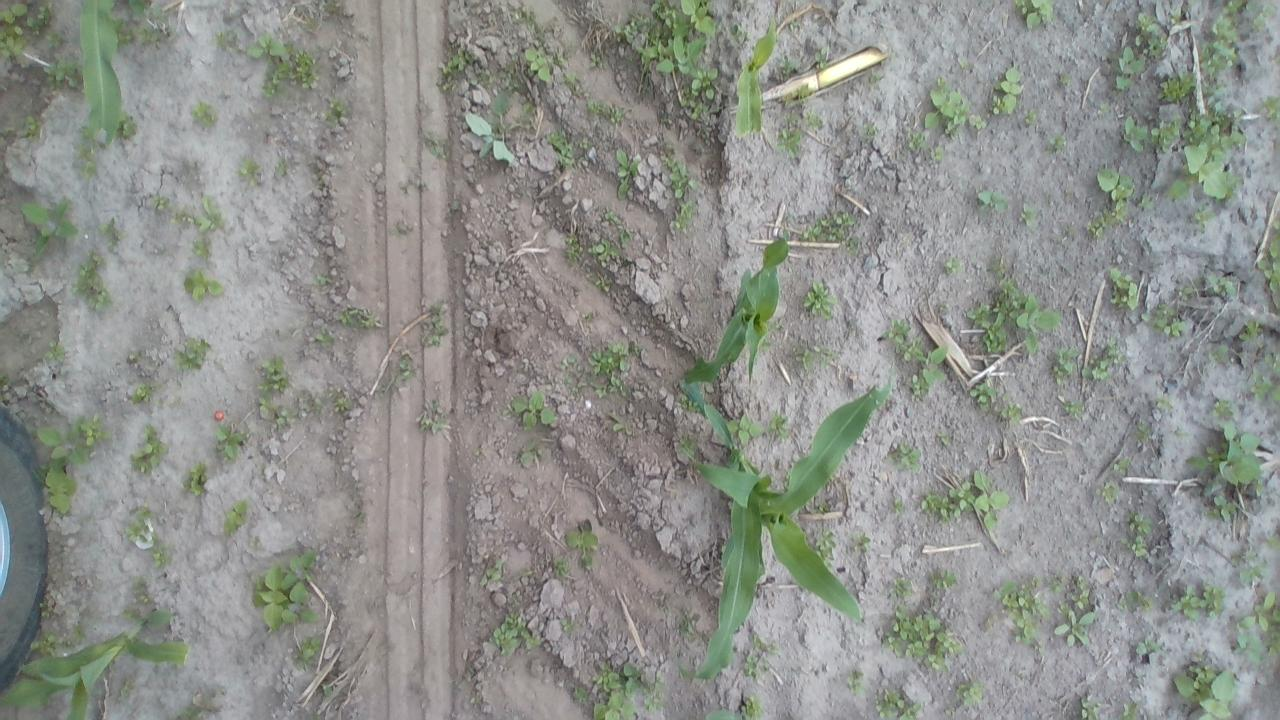Maize: (686, 379, 891, 674), (3, 606, 191, 720), (682, 234, 791, 386), (78, 0, 122, 147), (734, 16, 778, 132), (707, 705, 739, 720)
Weeds: (996, 574, 1096, 648), (621, 0, 716, 73), (249, 552, 319, 630), (466, 82, 526, 166), (39, 414, 90, 512), (876, 610, 961, 668), (570, 654, 642, 720), (1190, 424, 1264, 486), (966, 275, 1016, 356), (1169, 144, 1237, 202), (0, 0, 57, 68), (1170, 663, 1236, 719), (1234, 591, 1280, 658), (1187, 101, 1248, 150), (18, 190, 76, 240), (898, 340, 946, 399), (1204, 0, 1242, 72), (72, 247, 116, 309), (1014, 295, 1060, 354), (800, 210, 860, 255), (264, 46, 316, 96), (485, 612, 539, 660), (924, 78, 968, 136), (593, 209, 636, 266), (741, 628, 783, 686), (970, 468, 1009, 530), (918, 478, 974, 520), (678, 66, 718, 121), (1254, 214, 1280, 294), (1162, 584, 1223, 618), (561, 359, 620, 394), (128, 423, 169, 472), (563, 515, 600, 568), (1082, 338, 1126, 382), (874, 688, 925, 720), (512, 391, 556, 428), (1230, 548, 1272, 586), (1133, 13, 1170, 56), (547, 132, 590, 168), (586, 344, 639, 373), (615, 149, 644, 202), (1250, 355, 1280, 406), (419, 307, 456, 348), (116, 16, 162, 48), (990, 68, 1021, 114), (186, 269, 229, 302), (384, 350, 419, 390), (664, 156, 697, 198), (1114, 47, 1147, 89), (1159, 72, 1198, 107), (1106, 268, 1138, 310), (1097, 169, 1139, 201), (75, 127, 101, 178), (218, 420, 248, 464), (438, 50, 469, 92), (40, 56, 80, 88), (520, 46, 554, 82), (1147, 301, 1181, 337), (1016, 0, 1058, 29), (246, 30, 284, 62), (196, 194, 226, 234), (1128, 511, 1154, 557), (258, 358, 294, 391), (339, 306, 384, 332), (1202, 268, 1241, 298), (417, 402, 452, 435), (1088, 202, 1124, 234), (801, 281, 834, 315), (222, 500, 250, 539), (1150, 119, 1178, 158), (181, 336, 214, 368), (124, 506, 156, 539), (1120, 114, 1146, 153), (668, 200, 696, 236), (727, 413, 760, 443), (680, 604, 706, 640), (779, 121, 808, 153), (978, 187, 1009, 216), (891, 440, 919, 472), (181, 465, 209, 496), (238, 156, 265, 188), (792, 344, 819, 376), (296, 635, 322, 668), (83, 416, 111, 446), (1052, 345, 1072, 386), (193, 102, 218, 134), (930, 564, 960, 590), (259, 399, 290, 424), (646, 678, 668, 712), (326, 98, 354, 124), (1076, 692, 1104, 718), (43, 341, 71, 367), (520, 439, 542, 472), (29, 635, 60, 658), (970, 384, 996, 411), (486, 554, 510, 582), (1210, 496, 1236, 521), (1254, 0, 1274, 32), (424, 132, 450, 156), (274, 154, 296, 182), (101, 218, 123, 246), (956, 682, 984, 704), (814, 534, 836, 562), (1240, 320, 1267, 342), (310, 329, 337, 351), (588, 103, 624, 119), (1098, 483, 1128, 502), (738, 696, 762, 719), (118, 112, 139, 138), (892, 580, 918, 601), (515, 2, 541, 23), (136, 578, 154, 608), (306, 393, 328, 417), (1209, 398, 1234, 419), (22, 114, 42, 140), (776, 53, 802, 73), (330, 390, 352, 413), (72, 622, 93, 646), (770, 412, 790, 437), (888, 322, 914, 341), (168, 207, 196, 224), (1266, 522, 1280, 556), (1264, 96, 1280, 125), (1048, 128, 1068, 151), (846, 670, 863, 696), (152, 548, 174, 568), (215, 30, 238, 49), (1019, 203, 1038, 226), (608, 410, 626, 434), (1002, 398, 1019, 423), (1190, 205, 1210, 226), (1209, 342, 1231, 361), (118, 677, 140, 696), (564, 75, 588, 92), (194, 236, 214, 256), (40, 597, 60, 617), (560, 611, 578, 633), (178, 706, 205, 720), (132, 386, 154, 403), (1118, 702, 1140, 718), (1132, 592, 1154, 608), (562, 234, 578, 256), (1203, 73, 1219, 95), (1135, 636, 1160, 650), (1135, 421, 1151, 442), (1176, 284, 1192, 304), (795, 82, 812, 100), (1024, 105, 1040, 124), (126, 606, 146, 621), (856, 536, 872, 554), (596, 274, 612, 292), (1064, 398, 1080, 416), (969, 116, 988, 131), (678, 436, 692, 456), (906, 134, 926, 148), (679, 396, 696, 412), (864, 116, 879, 134), (1112, 458, 1131, 472), (944, 255, 958, 274), (815, 49, 829, 68), (1158, 392, 1174, 408), (930, 147, 946, 163), (153, 195, 170, 210), (48, 30, 69, 42), (550, 562, 568, 576), (816, 498, 834, 511), (779, 92, 794, 107), (869, 71, 886, 84), (1116, 594, 1126, 616), (1095, 102, 1107, 120), (0, 373, 13, 389), (808, 114, 825, 126), (891, 497, 905, 511), (316, 273, 332, 283)
